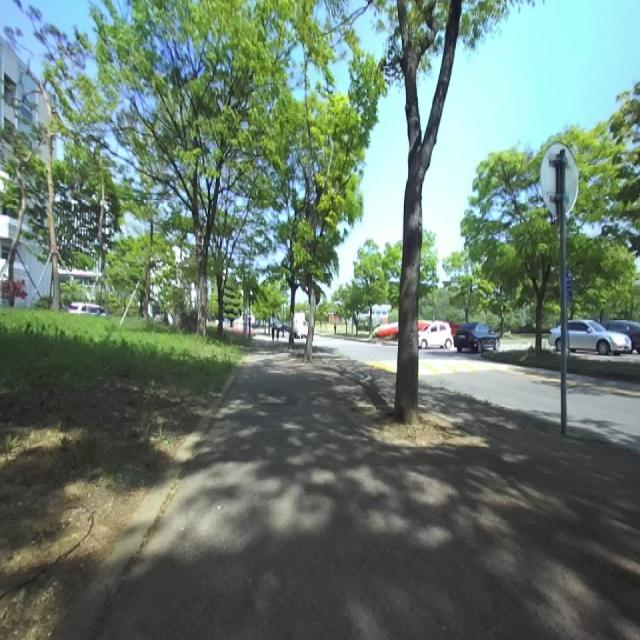sidewalk: (100, 340, 640, 640)
